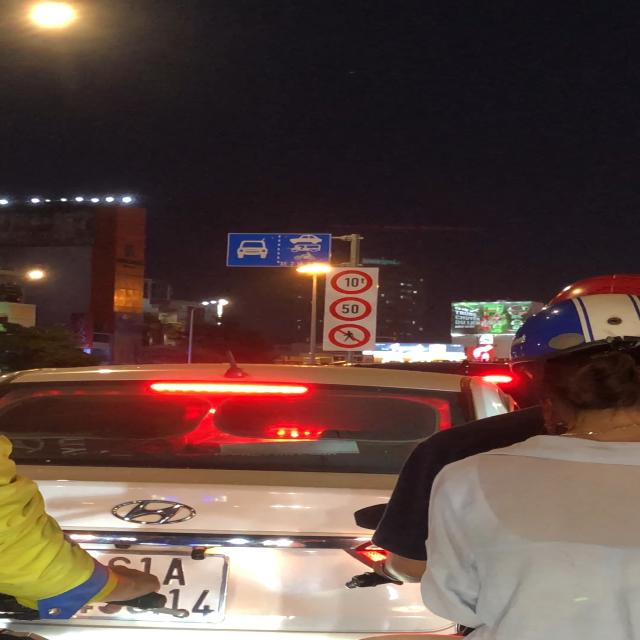Bien bao cam nguoi di bo: (328, 323, 372, 349)
Bien bao toc do toi da cho phep: (326, 296, 373, 322)
